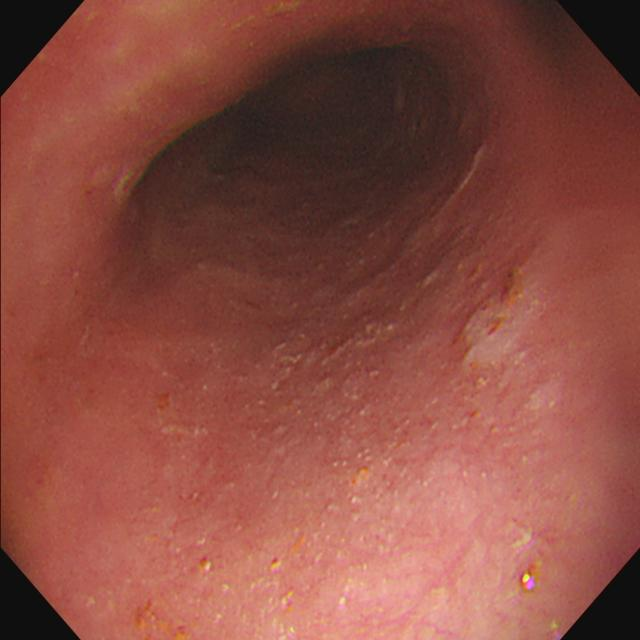E: (178, 44, 424, 191)
J: (457, 262, 541, 397)
